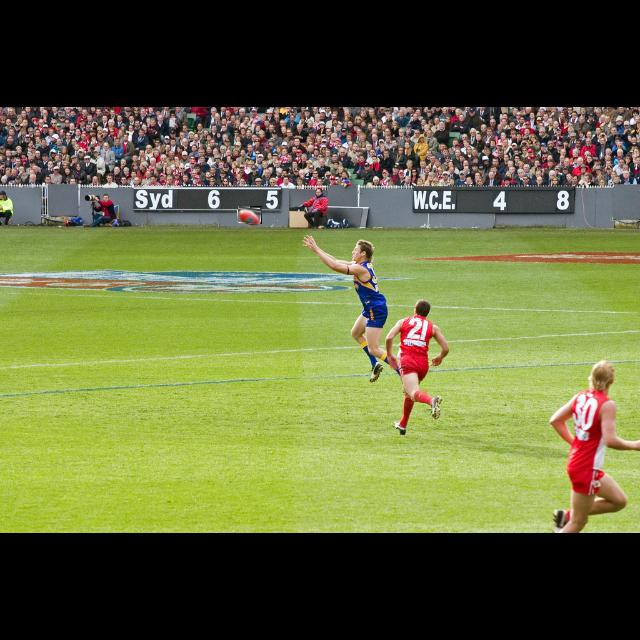Football: (238, 206, 262, 224)
